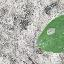Morning glory: (31, 0, 64, 64)
